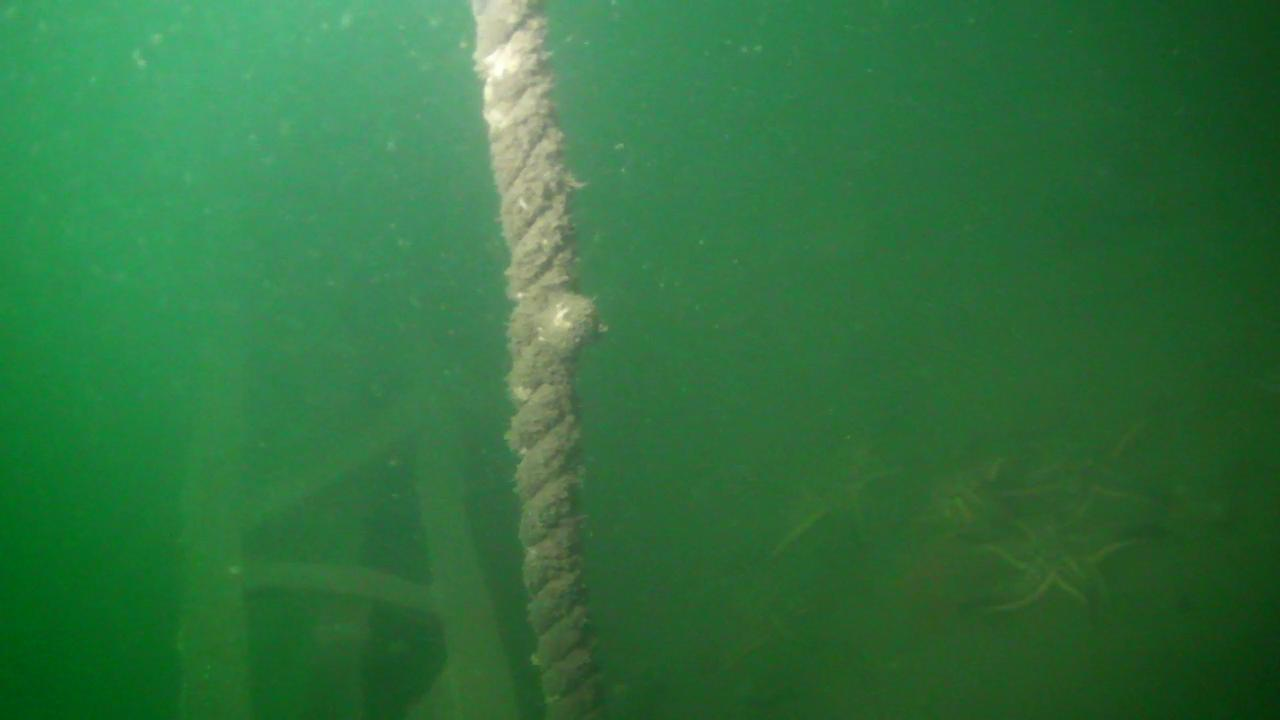rope: (470, 0, 613, 720)
